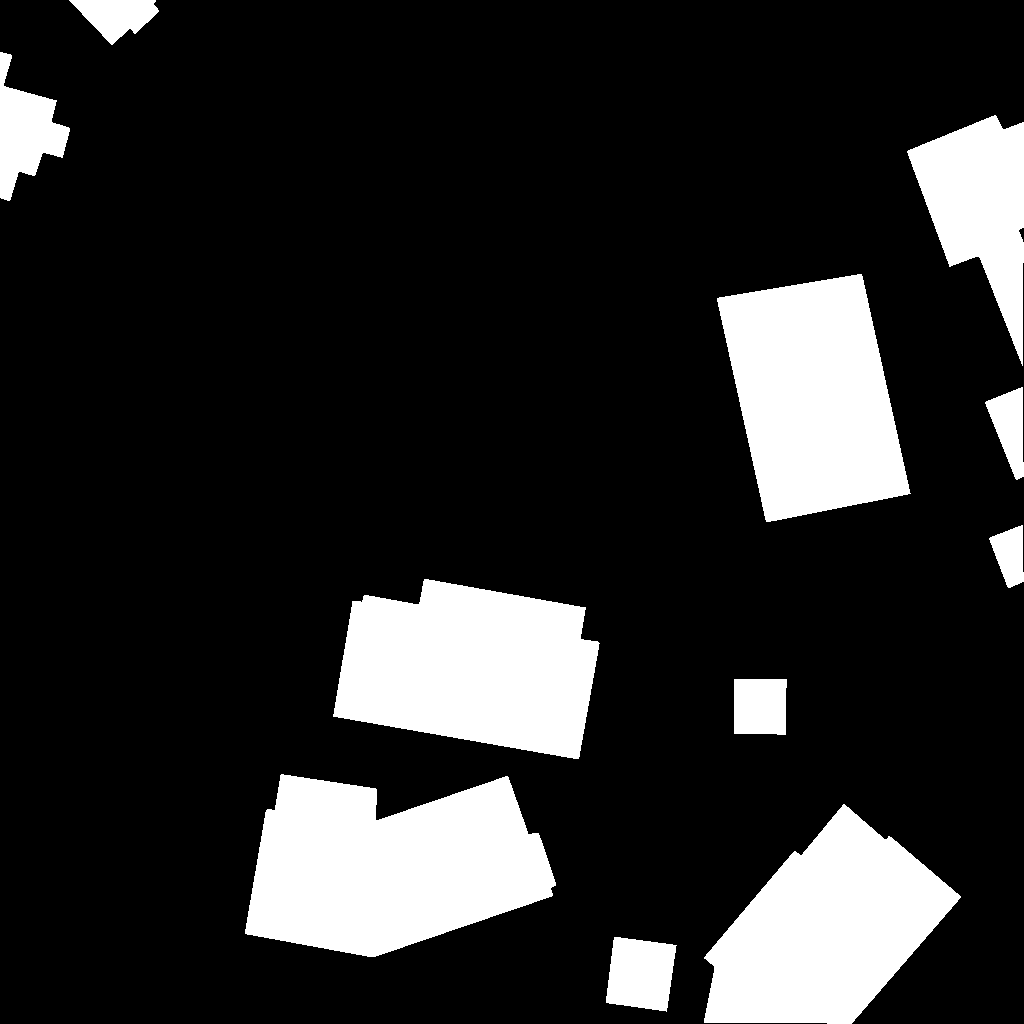building: (245, 774, 557, 958), (704, 804, 962, 1024), (333, 579, 600, 760), (717, 274, 911, 523), (907, 115, 1024, 481), (0, 52, 71, 202), (606, 937, 677, 1012), (69, 0, 160, 46), (734, 679, 787, 735), (989, 525, 1024, 589)
